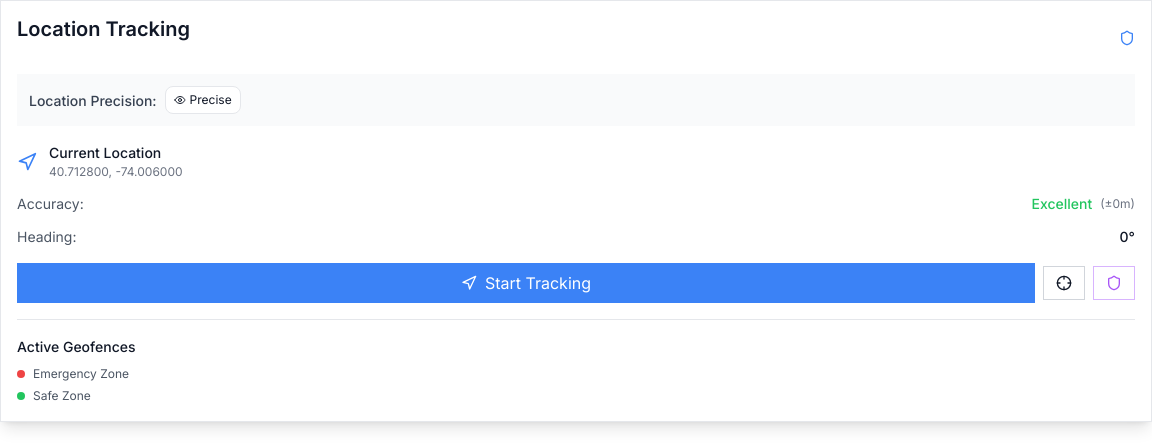
Scenario: LocationTracker › toggles location precision
Click the button "Precise". click: click(203, 100)
box: [165,86,241,114]
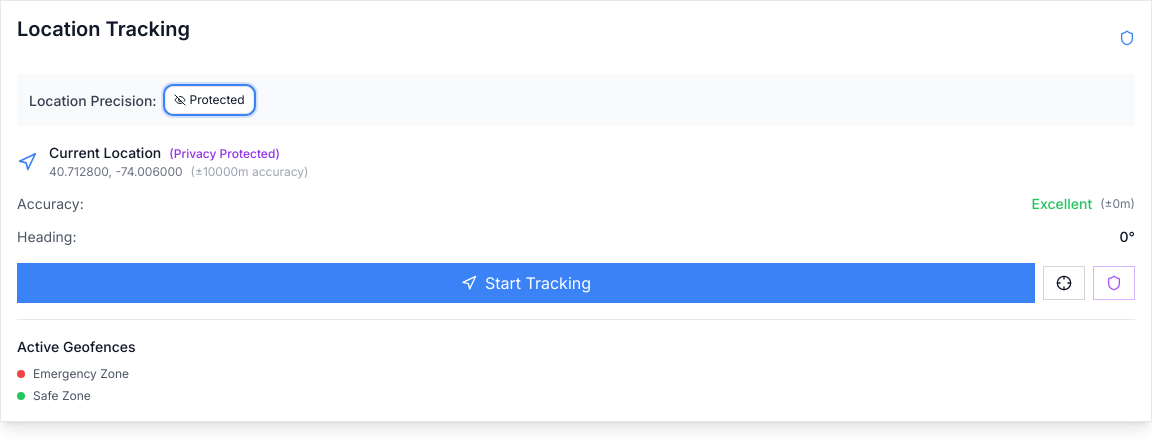
Result: the button "Protected" is shown at [165,86,254,114]
